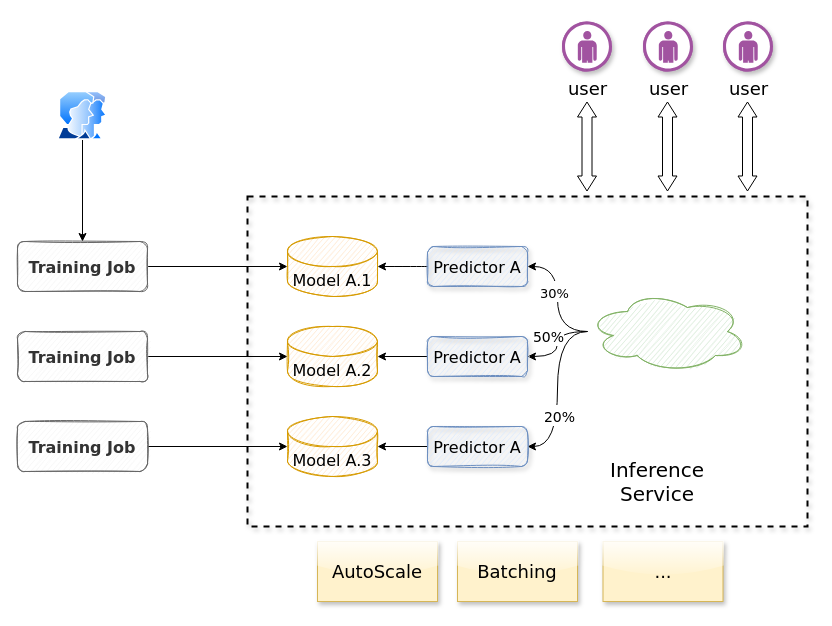
This 832x626 diagram has some shape labels left out. Each missing label, with the centre of its shape:
Developer: (x=82, y=115)
Traffic Control: (x=667, y=331)
